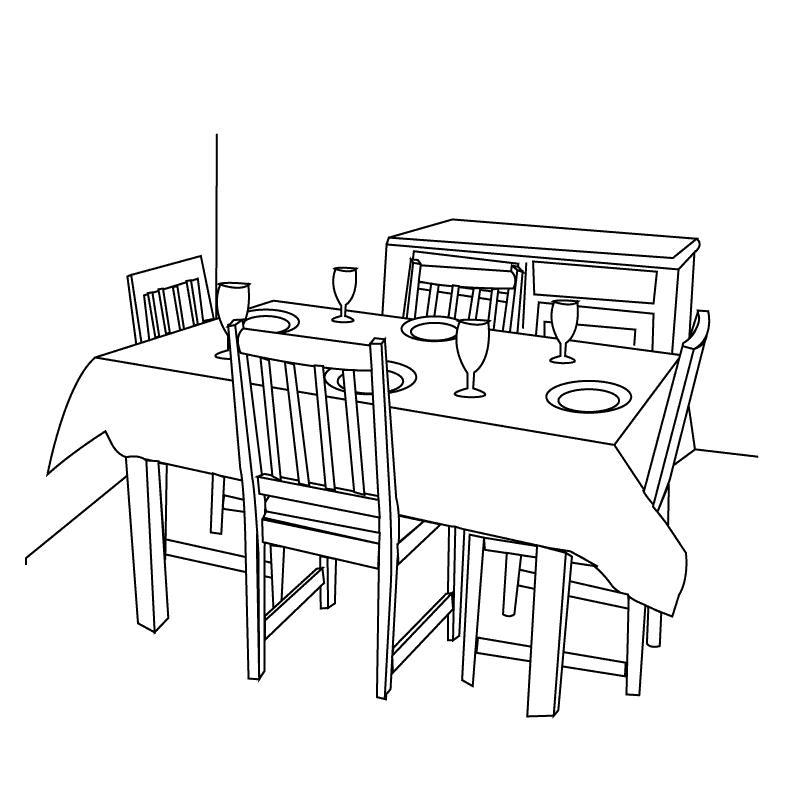chair: (217, 310, 470, 705)
diningtable: (62, 276, 712, 731)
